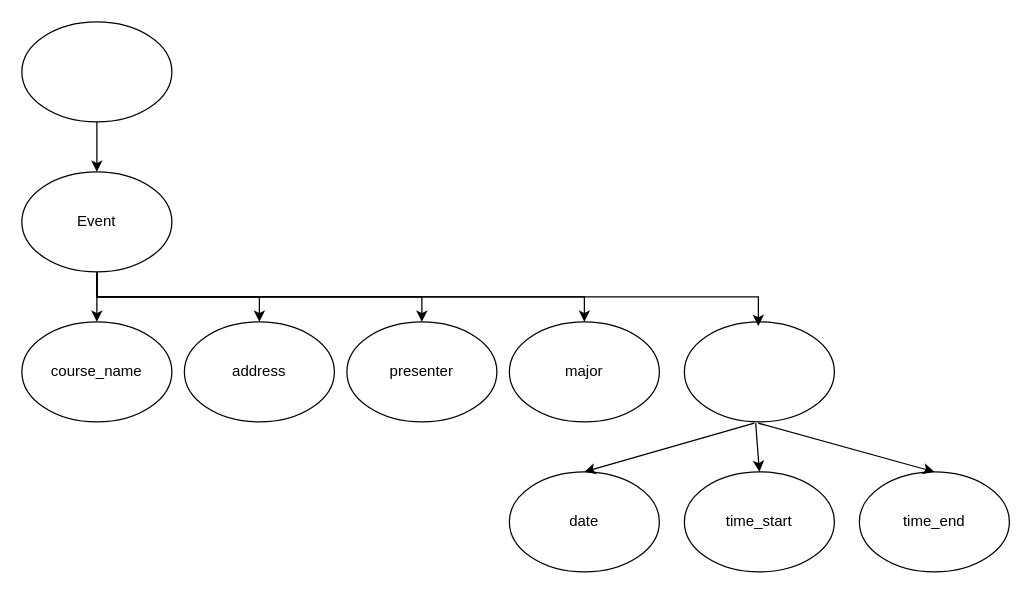
Some shapes in this 1031 by 594 pixel diagram are drawn without their labels. Here are the shapes that lost their labels. From the top down, the centre of each, then its label:
At point (96, 71): "VZ_orarend".
At point (758, 371): "datetime".
